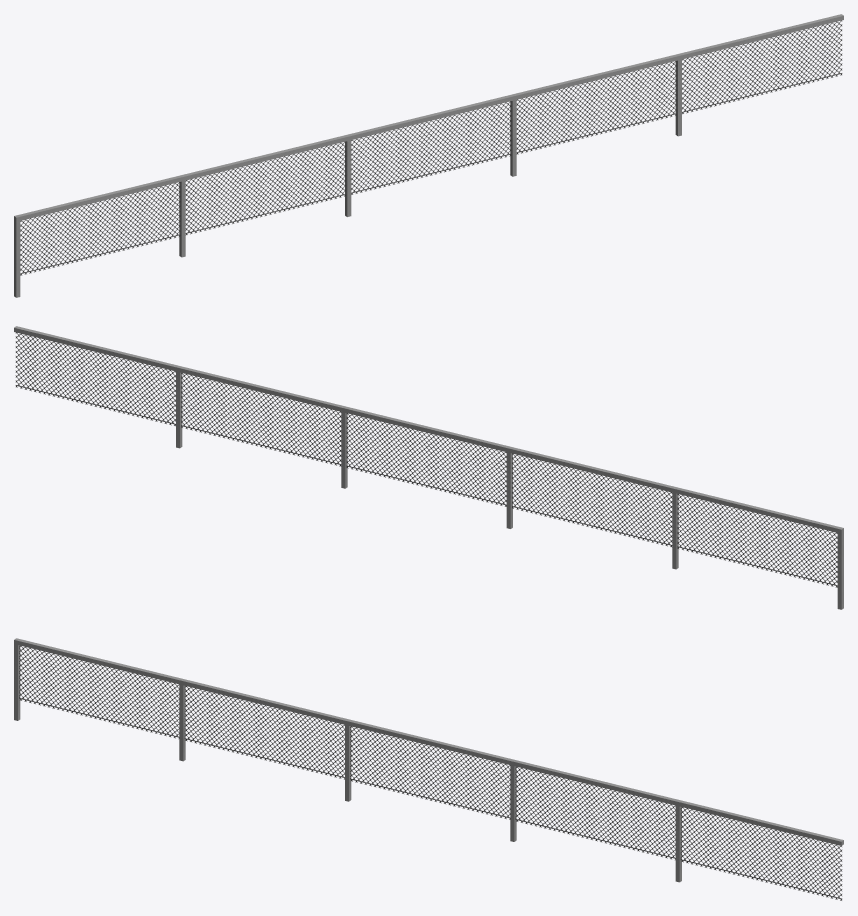
Rendered from fence-chainlink-1rail-5s-cbj_LOD00.gltf.
3 renders of one model, top to bottom at view 1: azimuth 30°, elevation 25°; view 2: azimuth 150°, elevation 25°; view 3: azimuth 330°, elevation 25°, orthographic.
Parts seen in each view (by area): view 1: post; view 2: post; view 3: post.
Part boxes in pixels (left/top/right/bottom): post: left=14, top=14, right=843, bottom=297; post: left=14, top=326, right=843, bottom=609; post: left=14, top=638, right=843, bottom=900.
Bounding box in the file's own units: 14.36 × 1.33 × 0.07.
